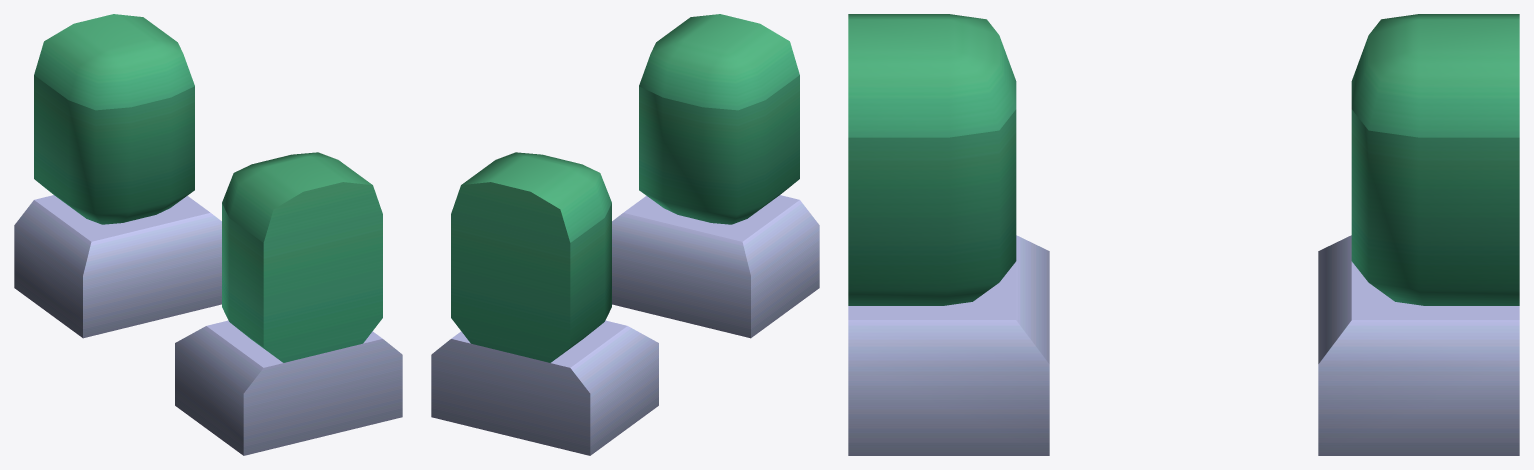
The model's file is hedge-large-gate.glb.
The picture shows the model from 3 angles, left to right: view 1: azimuth 30°, elevation 25°; view 2: azimuth 150°, elevation 25°; view 3: azimuth 270°, elevation 25°; orthographic projection. The views are drawn at different scales.
Visible parts, largest first — view 1: hedge-large-gate; view 2: hedge-large-gate; view 3: hedge-large-gate.
Boxes of the visible parts, left/top/right/bottom form: hedge-large-gate: left=14, top=14, right=402, bottom=455; hedge-large-gate: left=431, top=14, right=819, bottom=455; hedge-large-gate: left=848, top=14, right=1519, bottom=455.
Size of the model in its own units: 0.4 by 0.6 by 1.
Materials: 1 (1 with a texture image).
